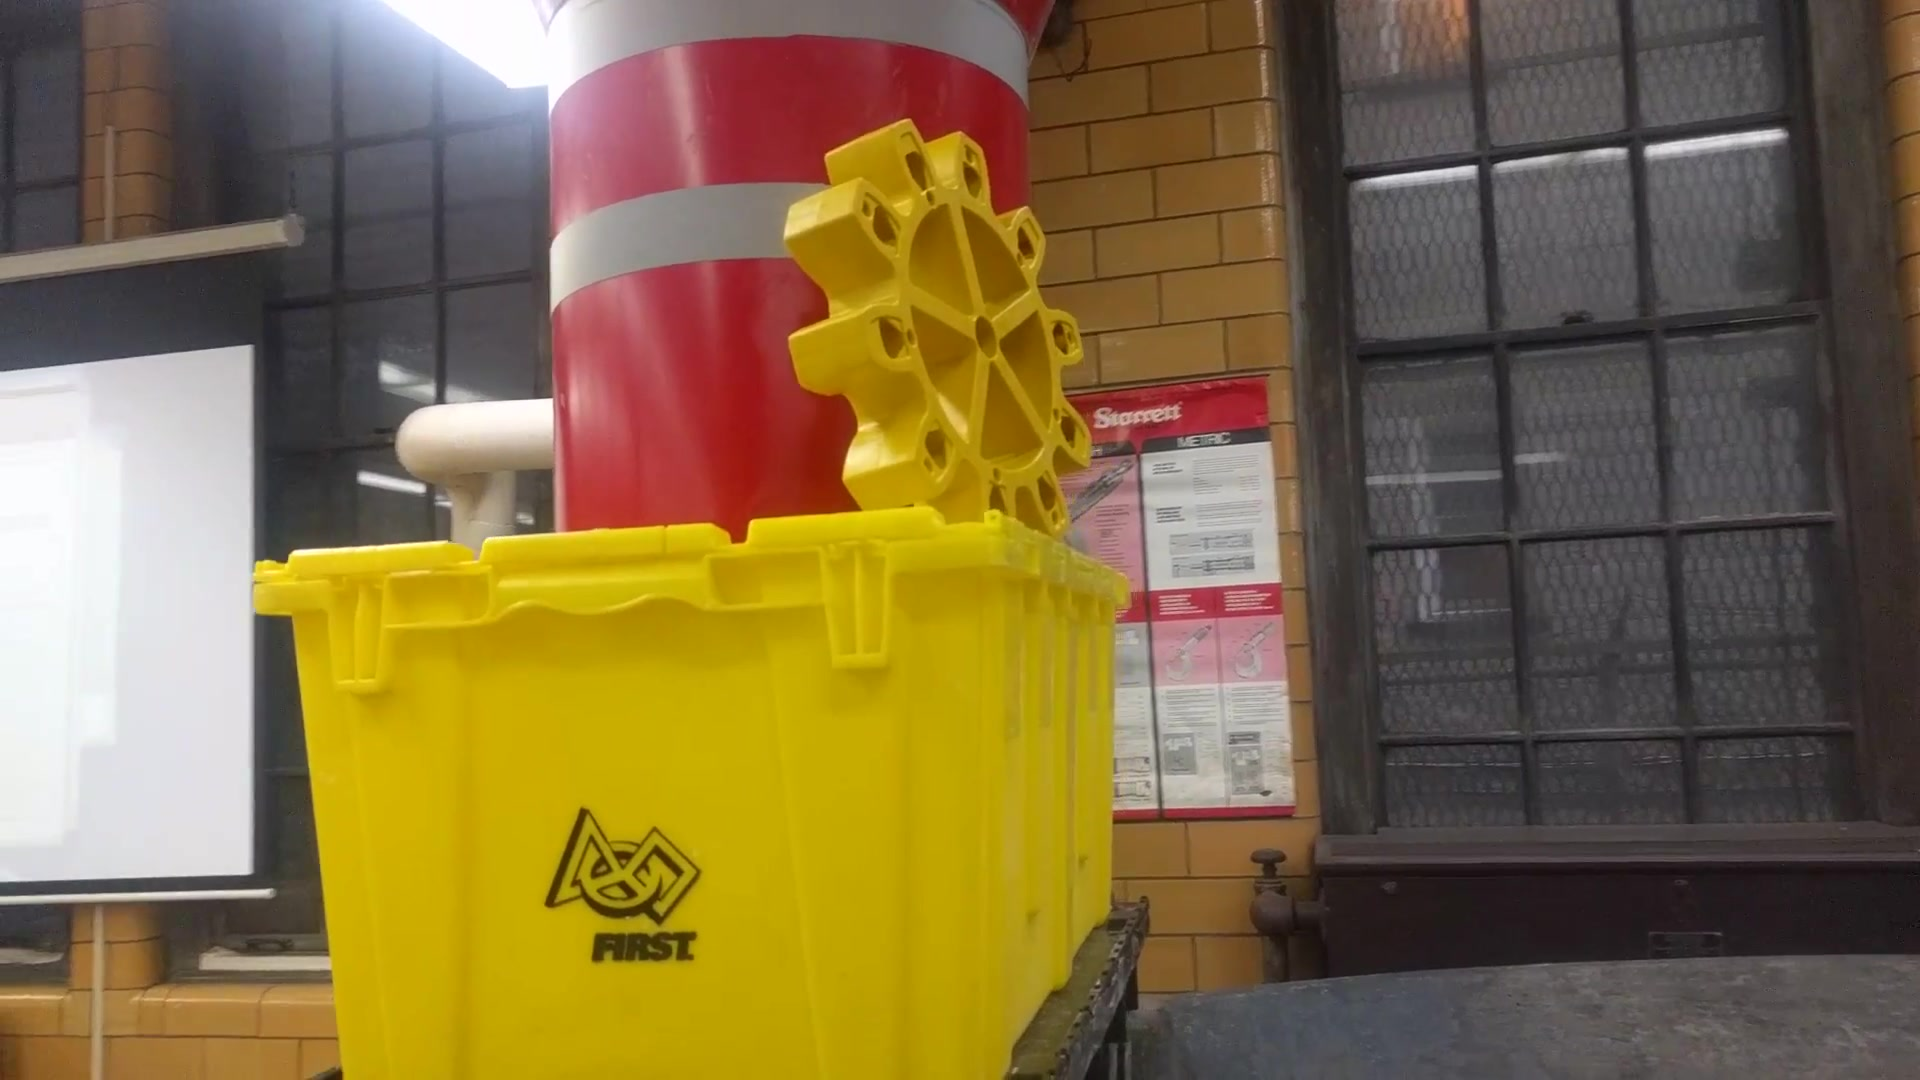gear: (762, 102, 1095, 568)
